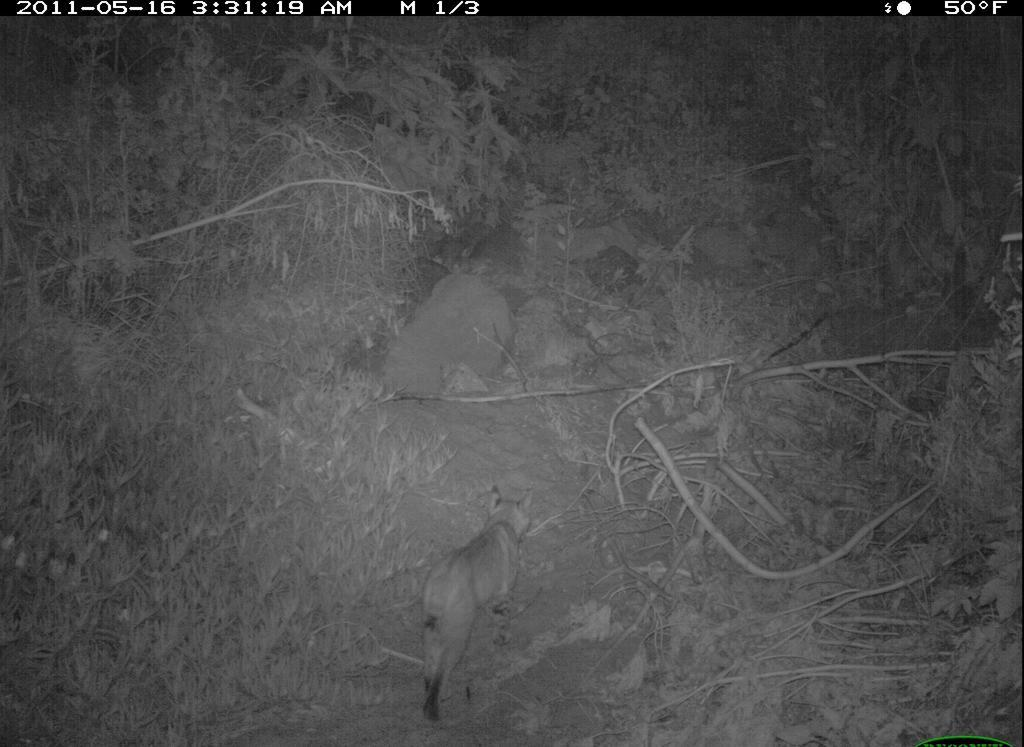bobcat: (401, 469, 573, 728)
